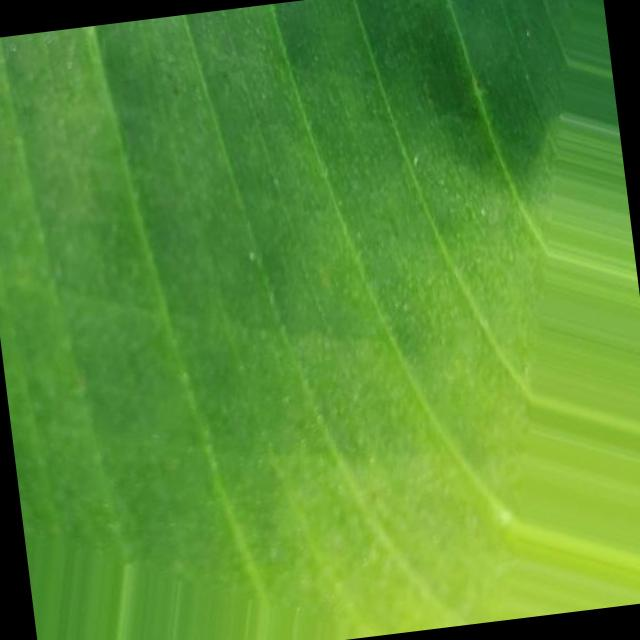Banana_Healthy: (62, 84, 504, 516)
